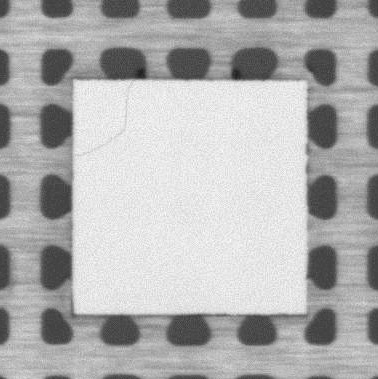DIE_CRACK: (75, 80, 137, 155)
